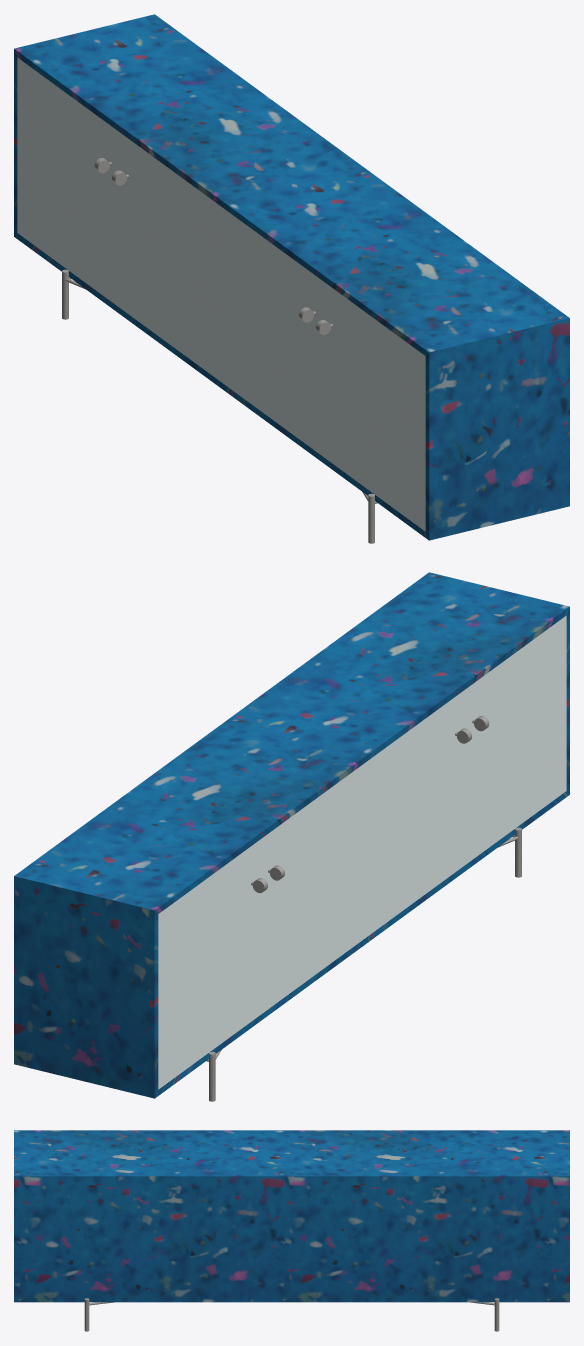
Rendered from nelson_1.glb.
The picture shows the model from 3 angles, top to bottom: view 1: azimuth 30°, elevation 25°; view 2: azimuth 150°, elevation 25°; view 3: azimuth 270°, elevation 25°; orthographic projection. The views are drawn at different scales.
Parts seen in each view (by area): view 1: armadio, sportello.002, sportello, sportello.001, sportello.003, piedi; view 2: armadio, sportello.001, sportello.003, sportello.002, sportello, piedi; view 3: armadio, piedi.
Part boxes in pixels (x1,y1,x2,y2): armadio: [14, 14, 569, 540]; sportello.002: [119, 132, 221, 381]; sportello: [323, 282, 425, 531]; sportello.001: [221, 207, 323, 456]; sportello.003: [17, 57, 119, 307]; piedi: [62, 269, 374, 543]; armadio: [14, 572, 569, 1098]; sportello.001: [362, 690, 464, 939]; sportello.003: [158, 840, 260, 1089]; sportello.002: [260, 765, 362, 1014]; sportello: [464, 615, 566, 865]; piedi: [209, 827, 521, 1101]; armadio: [14, 1130, 569, 1302]; piedi: [84, 1298, 499, 1331].
Bounding box in the file's own units: 0.5386 × 0.73 × 2.4.
Materials: 3 (2 with a texture image).
